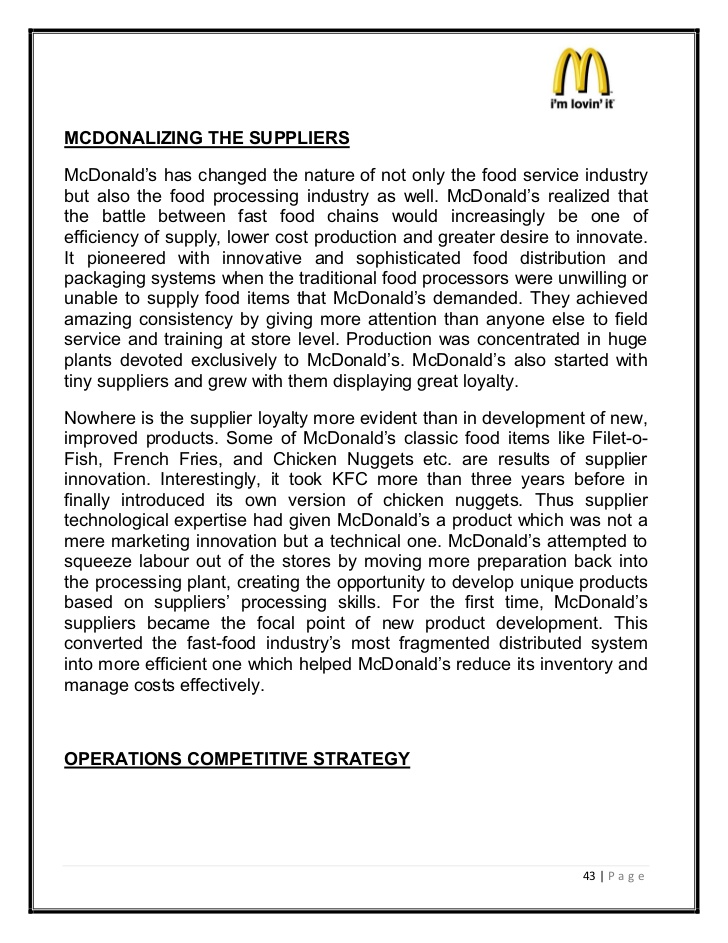mcdonalds: (539, 38, 616, 97)
